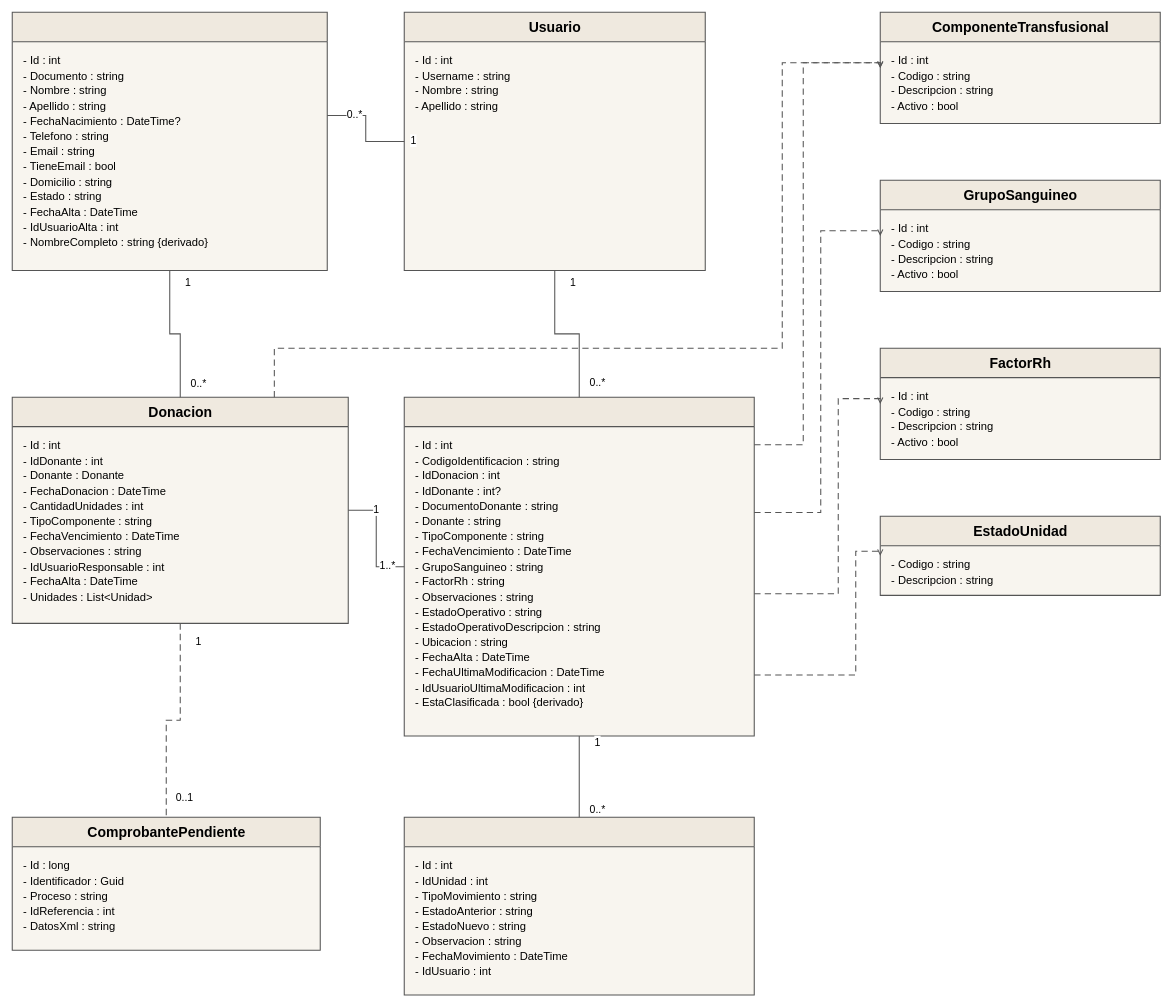
The diagram is 1173 pixels wide and 1008 high, and some of its shapes have lost their labels. The shapes that lost their labels are listed below. From the top down, each one's box as (x1, y1, x2, y2) in pixels, then its label:
(11, 11, 327, 271): Donante
(403, 396, 754, 736): Unidad
(403, 816, 754, 995): MovimientoUnidad
